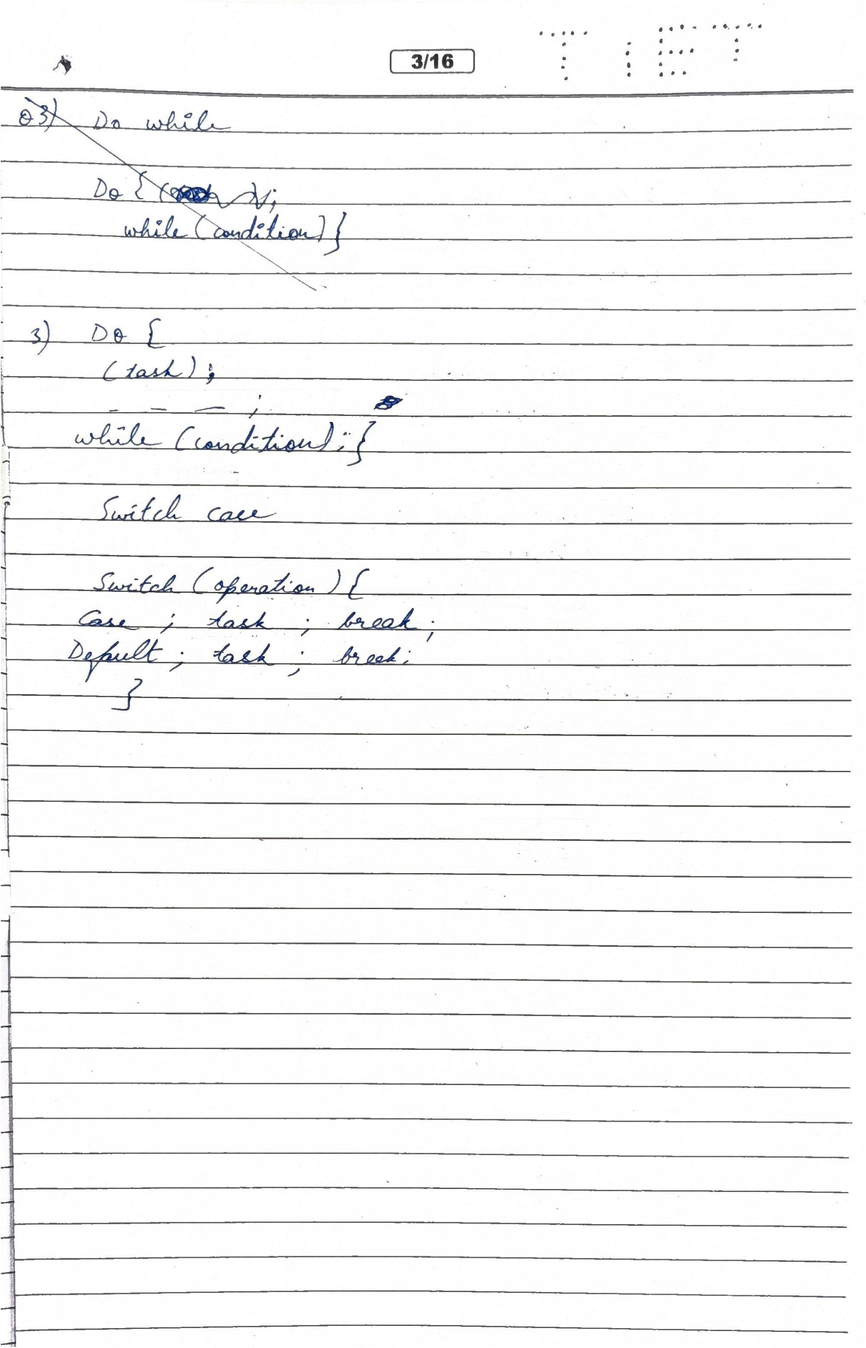cuttings: (19, 95, 353, 295), (372, 394, 406, 411)
